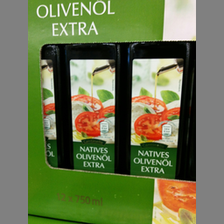oil: (122, 42, 192, 180), (63, 44, 123, 172)
